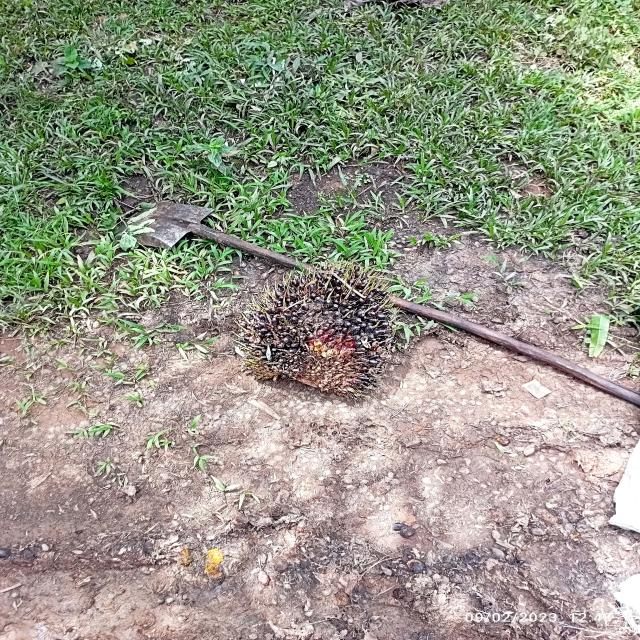fraksi 00: (229, 236, 438, 434)
